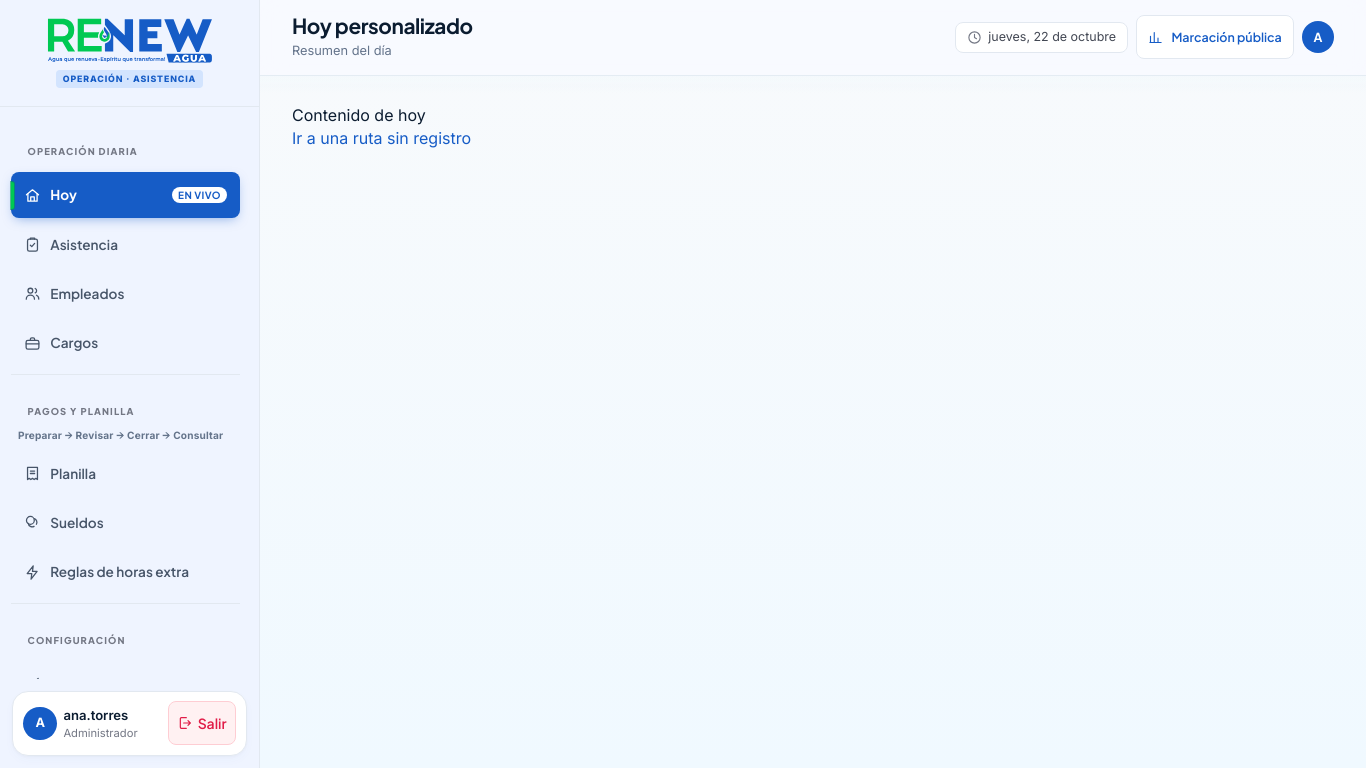
Test: AdminShellLayout — host persistente › no deja el título anterior mientras la ruta nueva no registra metadatos
Click the link "Ir a una ruta sin registro".
click(382, 138)  # box [292,128,471,148]
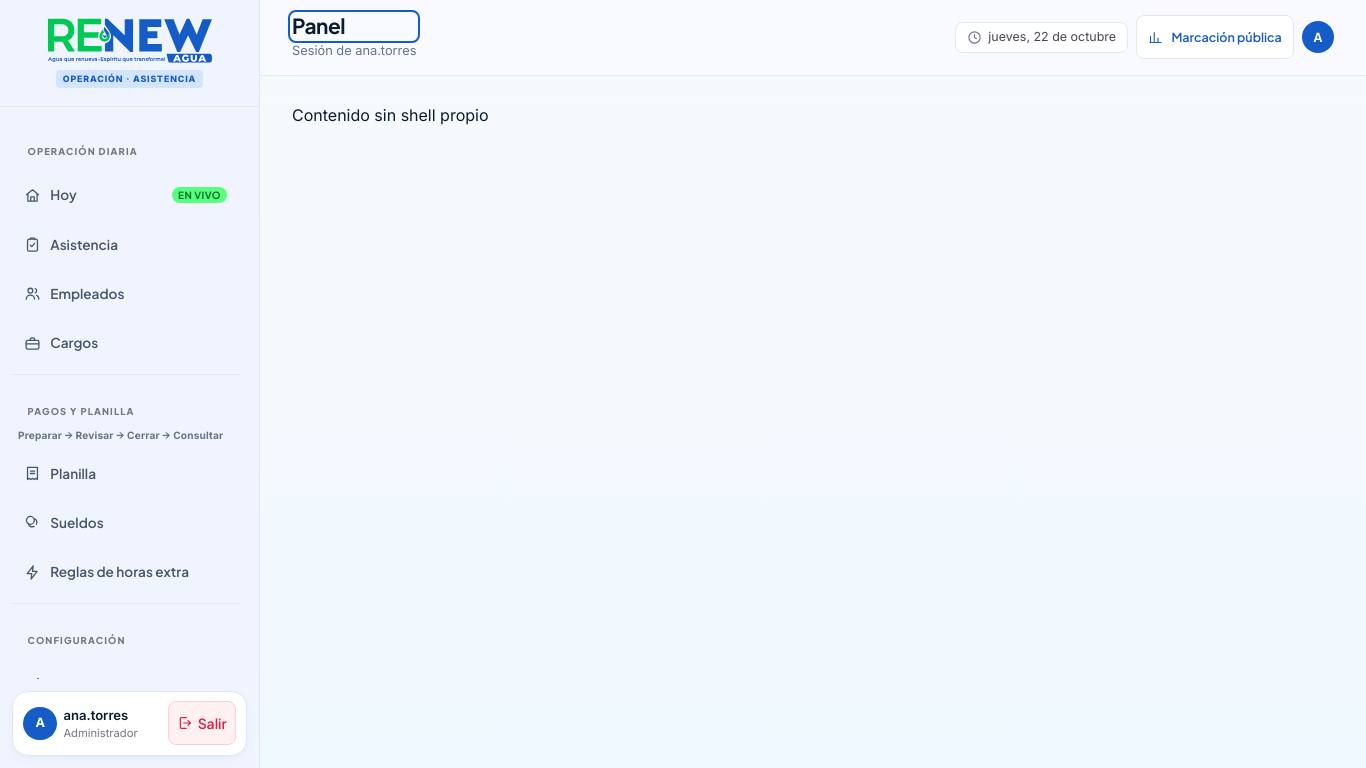
Check: the text "Contenido sin shell propio" is shown, box [292,105,488,125]
Check: the heading "Hoy personalizado" is gone
Check: the heading "Panel" is shown, box [292,12,345,39]
